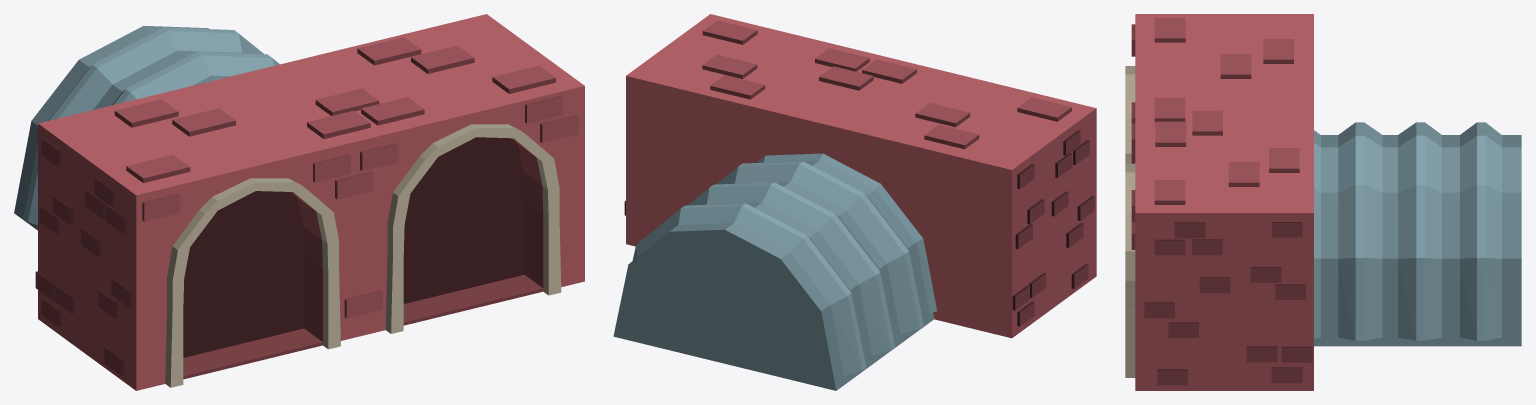
The model's file is Train Station.fbx.
3 renders of one model, left to right at view 1: azimuth 30°, elevation 25°; view 2: azimuth 150°, elevation 25°; view 3: azimuth 270°, elevation 25°, orthographic. The views are drawn at different scales.
Parts seen in each view (by area): view 1: pCube48; view 2: pCube48; view 3: pCube48.
Boxes of the visible parts, bbox=[...] form: pCube48: bbox=[14, 14, 584, 390]; pCube48: bbox=[613, 14, 1096, 390]; pCube48: bbox=[1125, 14, 1521, 390].
Size of the model in its own units: 21.64 by 9.13 by 17.98.
